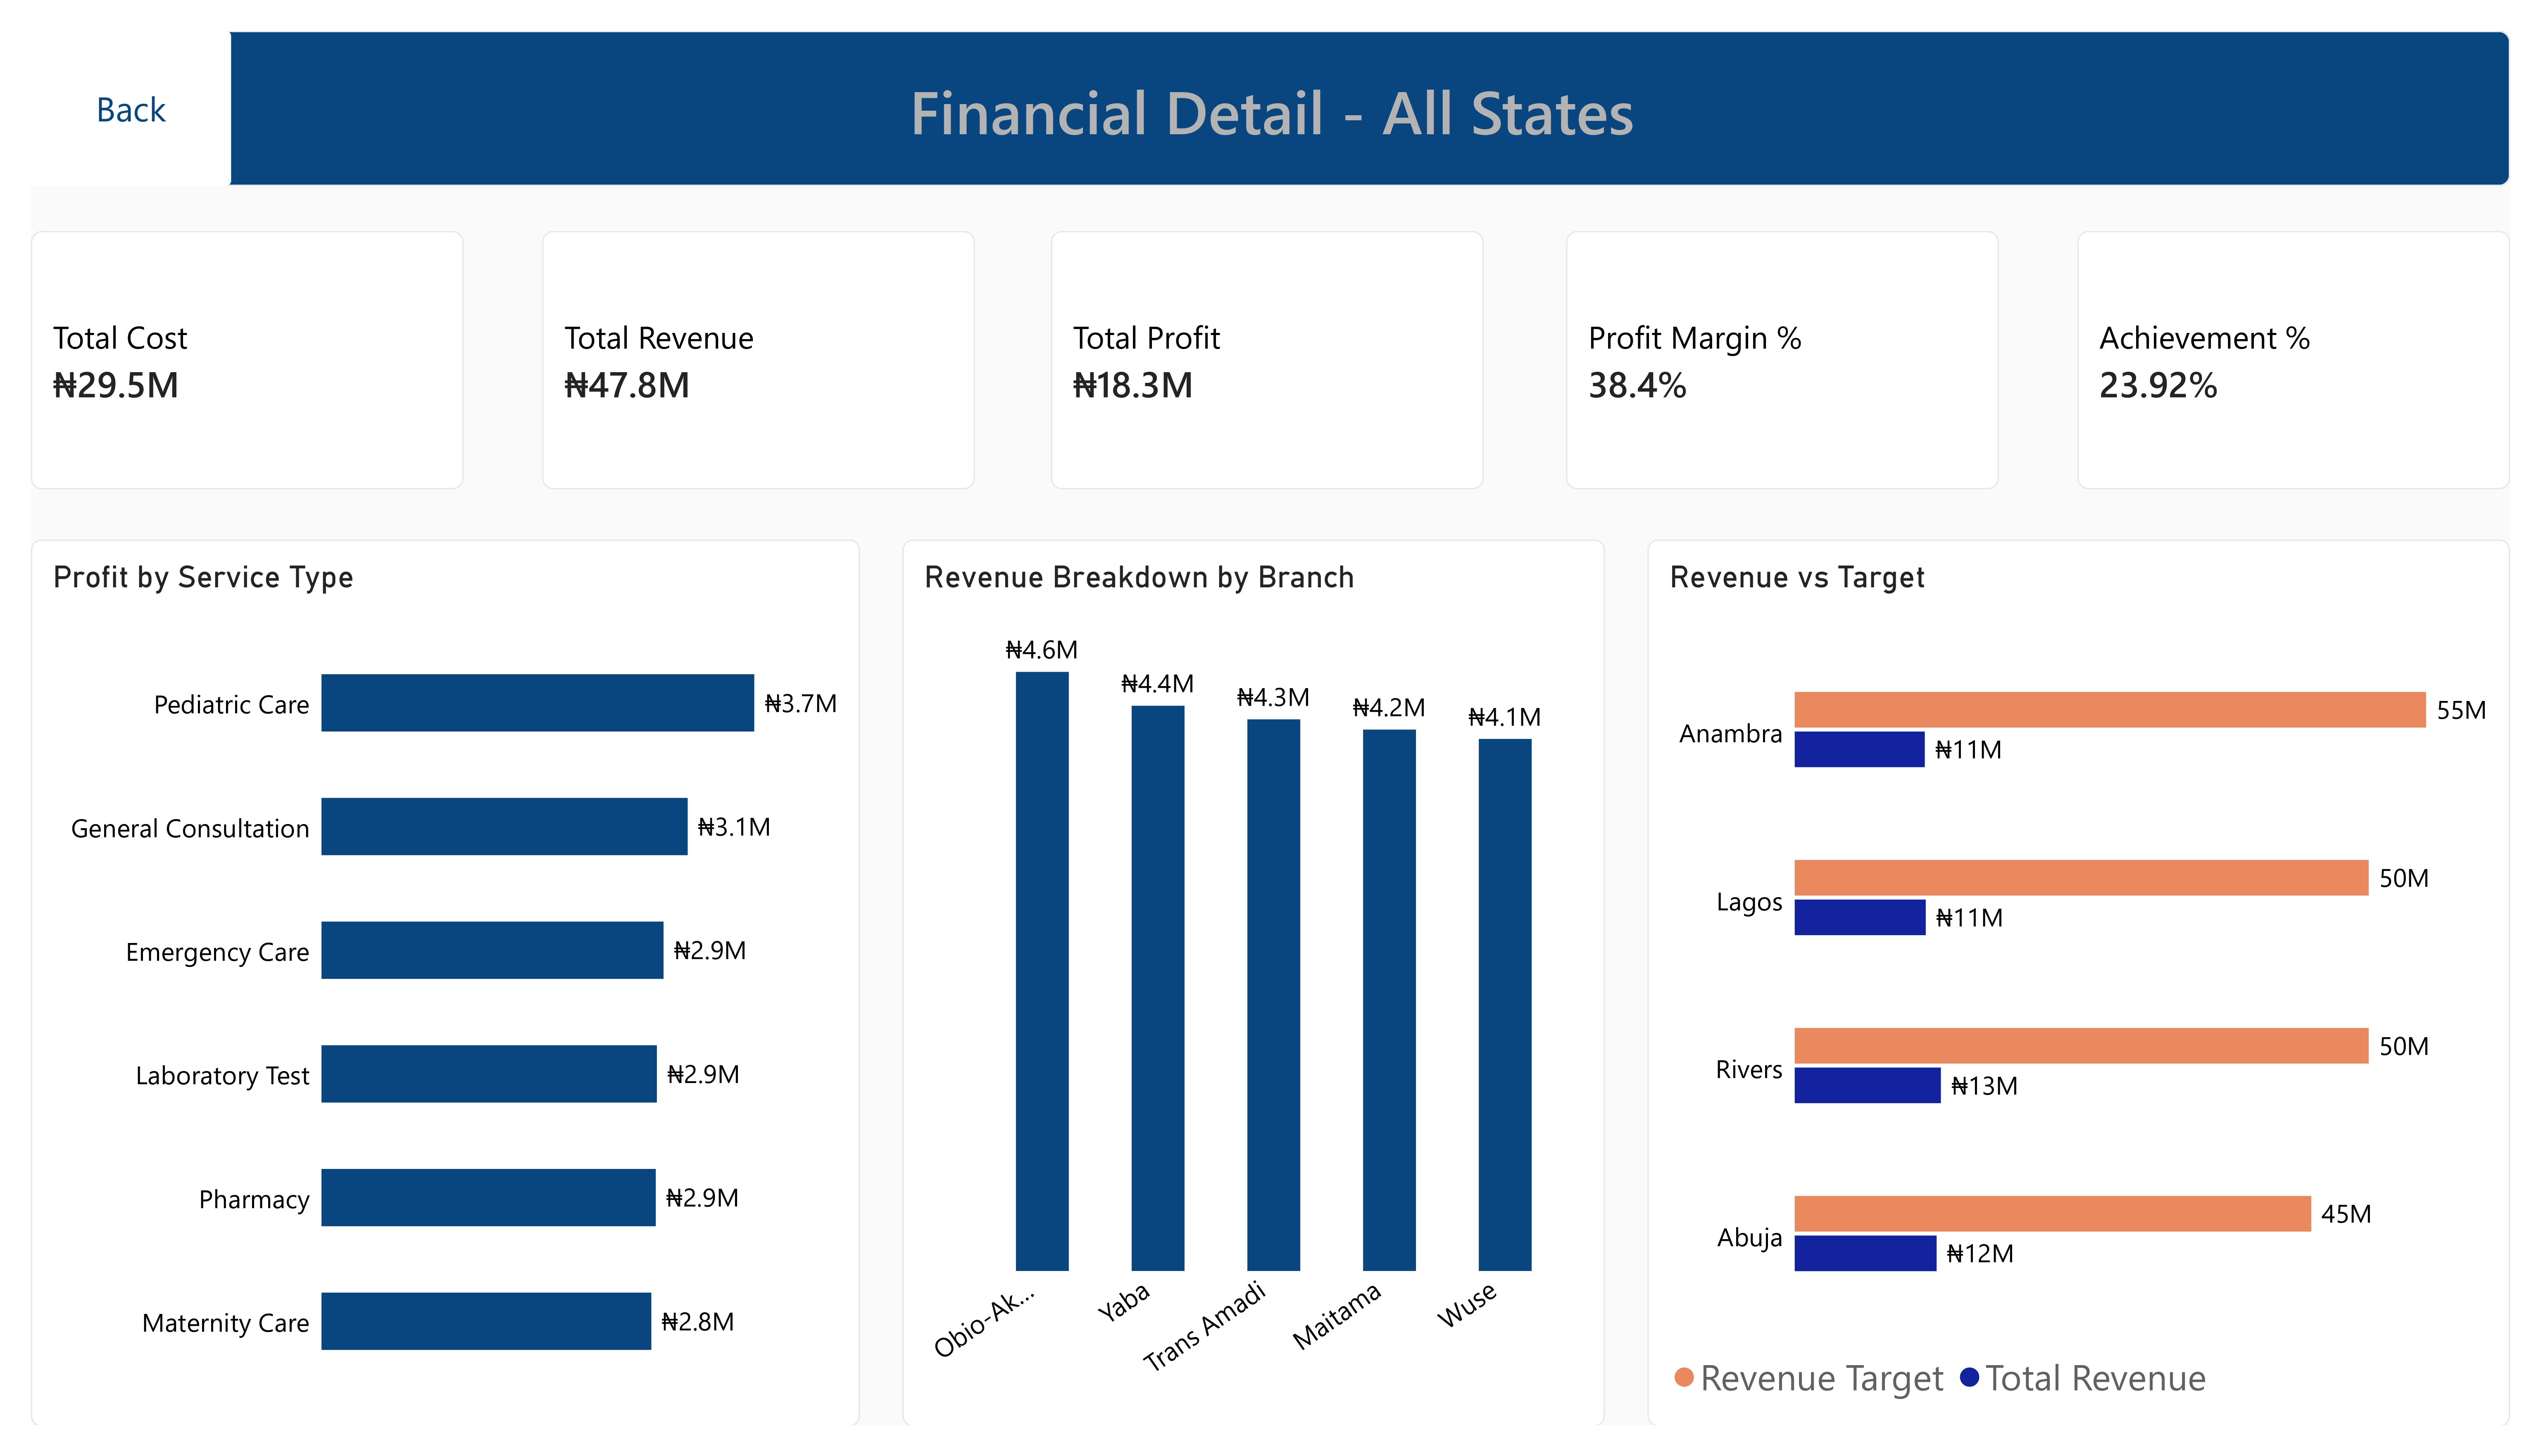

This screenshot's page, from the dashboard's own definition file:
{"tool":"powerbi","page":{"name":"Drill-through - Financial Detail","canvas":[1920,1080],"ordinal":9},"visuals":[{"type":"cardVisual","fields":{"Data":["Date_Table.Drill Title Finance"]},"box":[0,0,1920,120],"z":0},{"type":"actionButton","box":[0,0,155,120],"z":1},{"type":"cardVisual","fields":{"Data":["Date_Table.Achievement %"]},"box":[1585,155,335,200],"z":2},{"type":"cardVisual","fields":{"Data":["Date_Table.Profit Margin %"]},"box":[1188.8,155,335,200],"z":3},{"type":"cardVisual","fields":{"Data":["Date_Table.Total Cost"]},"box":[0,155,335,200],"z":4},{"type":"cardVisual","fields":{"Data":["Date_Table.Total Revenue"]},"box":[396.2,155,335,200],"z":5},{"type":"cardVisual","fields":{"Data":["Date_Table.Total Profit"]},"box":[790,155,335,200],"z":6},{"type":"clusteredBarChart","title":"Profit by Service Type","fields":{"Category":["Patient_Visits.Service"],"Y":["Date_Table.Total Profit"]},"box":[0,393.9,642.4,686.9],"z":7},{"type":"columnChart","title":"Revenue Breakdown by Branch","fields":{"Category":["Patient_Visits.Branch"],"Y":["Date_Table.Total Revenue"]},"box":[675.2,393.9,543.9,686.9],"z":8},{"type":"clusteredBarChart","title":"Revenue vs Target","fields":{"Category":["State_Targets.State"],"Y":["Date_Table.Revenue Target","Date_Table.Total Revenue"]},"box":[1252,393.9,668.2,686.9],"z":9}]}

Visuals, with their boxes on the page's 1920x1080 design canvas (x1, y1, x2, y2). These are canvas units, not pixel positions in the 2541x1456 screenshot, which may show the page scaled, cropped or inside an application window:
cardVisual - Date_Table.Drill Title Finance: left=0, top=0, right=1920, bottom=120
actionButton: left=0, top=0, right=155, bottom=120
cardVisual - Date_Table.Achievement %: left=1585, top=155, right=1920, bottom=355
cardVisual - Date_Table.Profit Margin %: left=1189, top=155, right=1524, bottom=355
cardVisual - Date_Table.Total Cost: left=0, top=155, right=335, bottom=355
cardVisual - Date_Table.Total Revenue: left=396, top=155, right=731, bottom=355
cardVisual - Date_Table.Total Profit: left=790, top=155, right=1125, bottom=355
"Profit by Service Type" clusteredBarChart: left=0, top=394, right=642, bottom=1081
"Revenue Breakdown by Branch" columnChart: left=675, top=394, right=1219, bottom=1081
"Revenue vs Target" clusteredBarChart: left=1252, top=394, right=1920, bottom=1081
